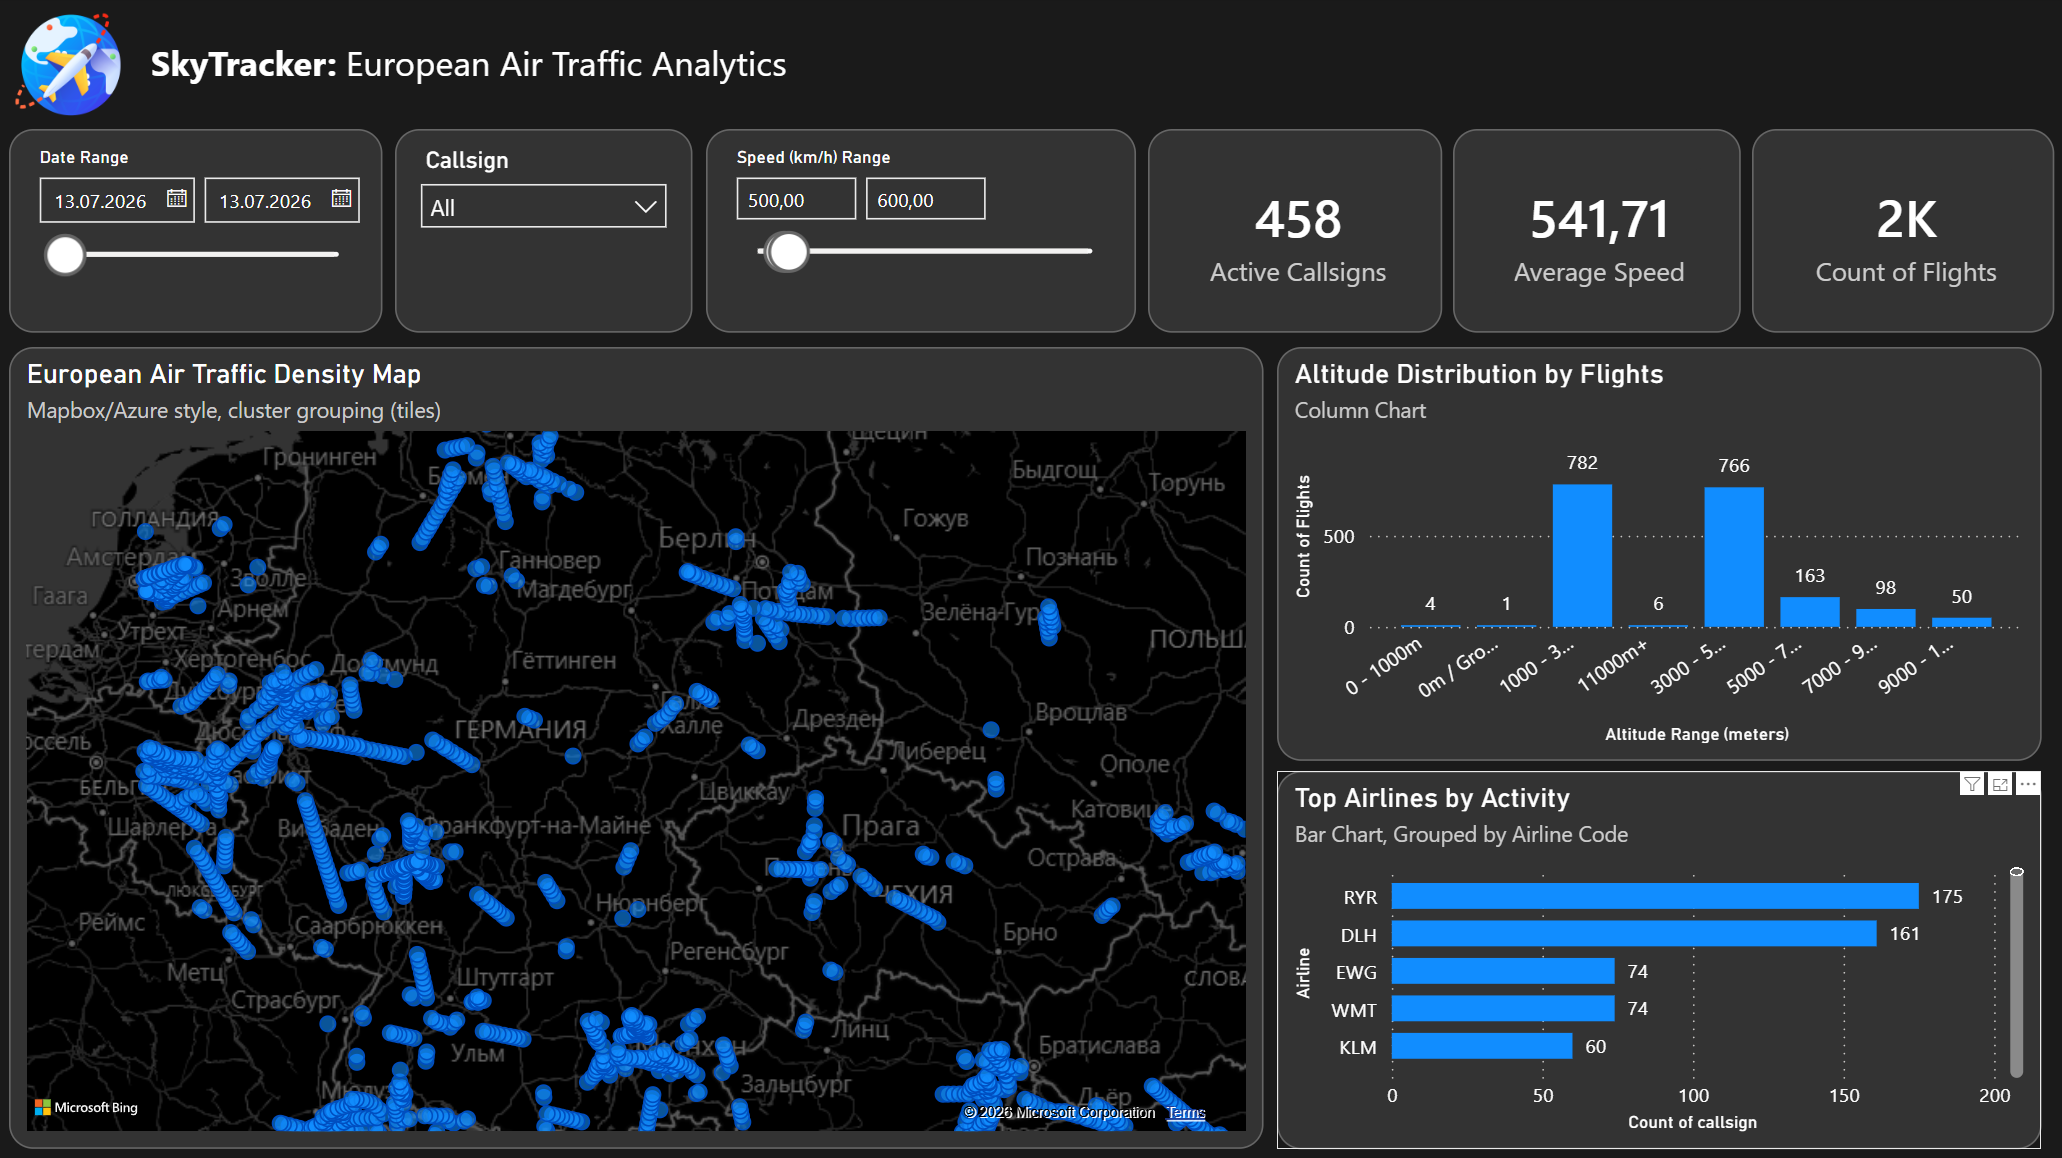

The dashboard page shown, as its layout file describes it:
{"tool":"powerbi","page":{"name":"Sky_Tracker","canvas":[1280,720],"ordinal":0},"visuals":[{"type":"map","title":"European Air Traffic Density Map","fields":{"Y":["flights_export.latitude"],"X":["flights_export.longitude"]},"box":[6.8,216.5,775.7,496.1],"z":0},{"type":"clusteredBarChart","title":"Top Airlines by Activity","fields":{"Y":["CountNonNull(flights_export.callsign)"],"Category":["flights_export.Airline"]},"box":[791.1,478.8,472.6,233.8],"z":1000},{"type":"cardVisual","fields":{"Data":["flights_export.Active Callsigns"]},"box":[711.3,81.6,182.5,126.2],"z":2000},{"type":"slicer","fields":{"Values":["flights_export.timestamp"]},"box":[6.8,81.6,230.7,126.2],"z":3000},{"type":"slicer","fields":{"Values":["flights_export.callsign"]},"box":[245.6,81.6,183.7,126.2],"z":4000},{"type":"textbox","box":[89.7,21,404.5,40.2],"z":5000},{"type":"slicer","fields":{"Values":["flights_export.speed_kmh"]},"box":[437.9,81.6,266,126.2],"z":6000},{"type":"clusteredColumnChart","title":"Altitude Distribution by Flights","fields":{"Category":["flights_export.Altitude Range (meters)"],"Y":["flights_export.Count of Flights"]},"box":[791.1,216.5,472.6,256.1],"z":7000},{"type":"cardVisual","fields":{"Data":["Avg(flights_export.speed_kmh)"]},"box":[900,81.6,177.5,126.2],"z":8000},{"type":"cardVisual","fields":{"Data":["flights_export.Count of Flights"]},"box":[1084.9,81.6,187.4,126.2],"z":9000},{"type":"image","box":[6.8,8.7,73,65.6],"z":10000}]}

Visuals, with their boxes in screenshot pixels (x1, y1, x2, y2), scaled from the page's 1280x720 canvas onto the 2062x1158 screenshot:
"European Air Traffic Density Map" map: 11 348 1261 1146
"Top Airlines by Activity" clusteredBarChart: 1274 770 2036 1146
cardVisual - flights_export.Active Callsigns: 1146 131 1440 334
slicer - flights_export.timestamp: 11 131 383 334
slicer - flights_export.callsign: 396 131 692 334
textbox: 145 34 796 98
slicer - flights_export.speed_kmh: 705 131 1134 334
"Altitude Distribution by Flights" clusteredColumnChart: 1274 348 2036 760
cardVisual - Avg(flights_export.speed_kmh): 1450 131 1736 334
cardVisual - flights_export.Count of Flights: 1748 131 2050 334
image: 11 14 129 119
